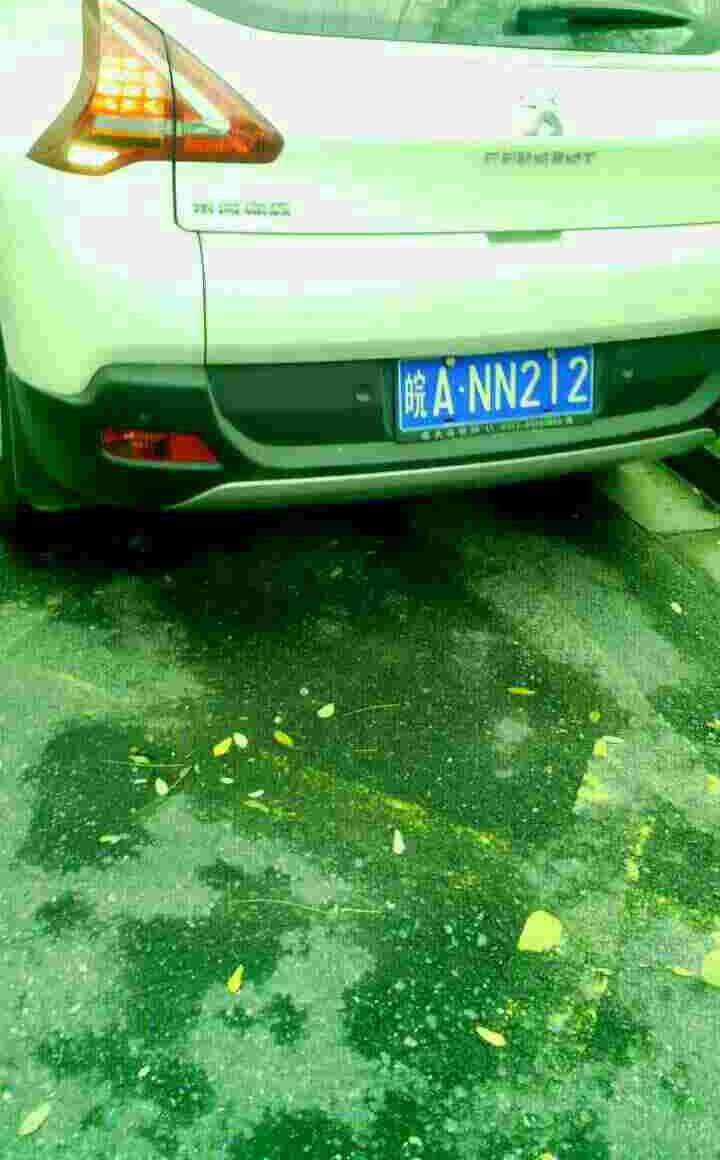license_plate: (398, 346, 601, 437)
